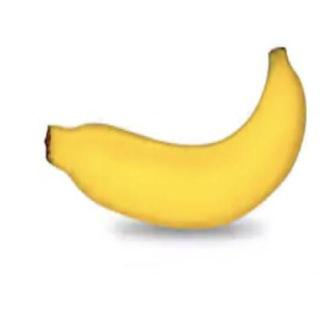banana: (40, 44, 308, 235)
